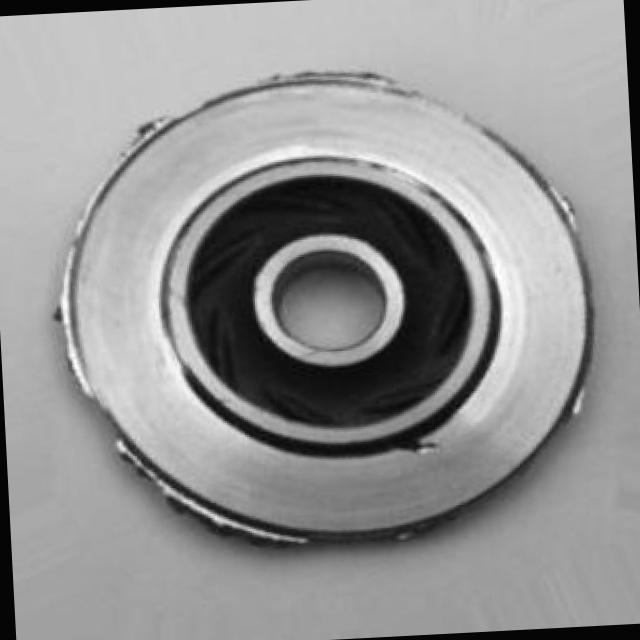Defect: (286, 59, 444, 96)
